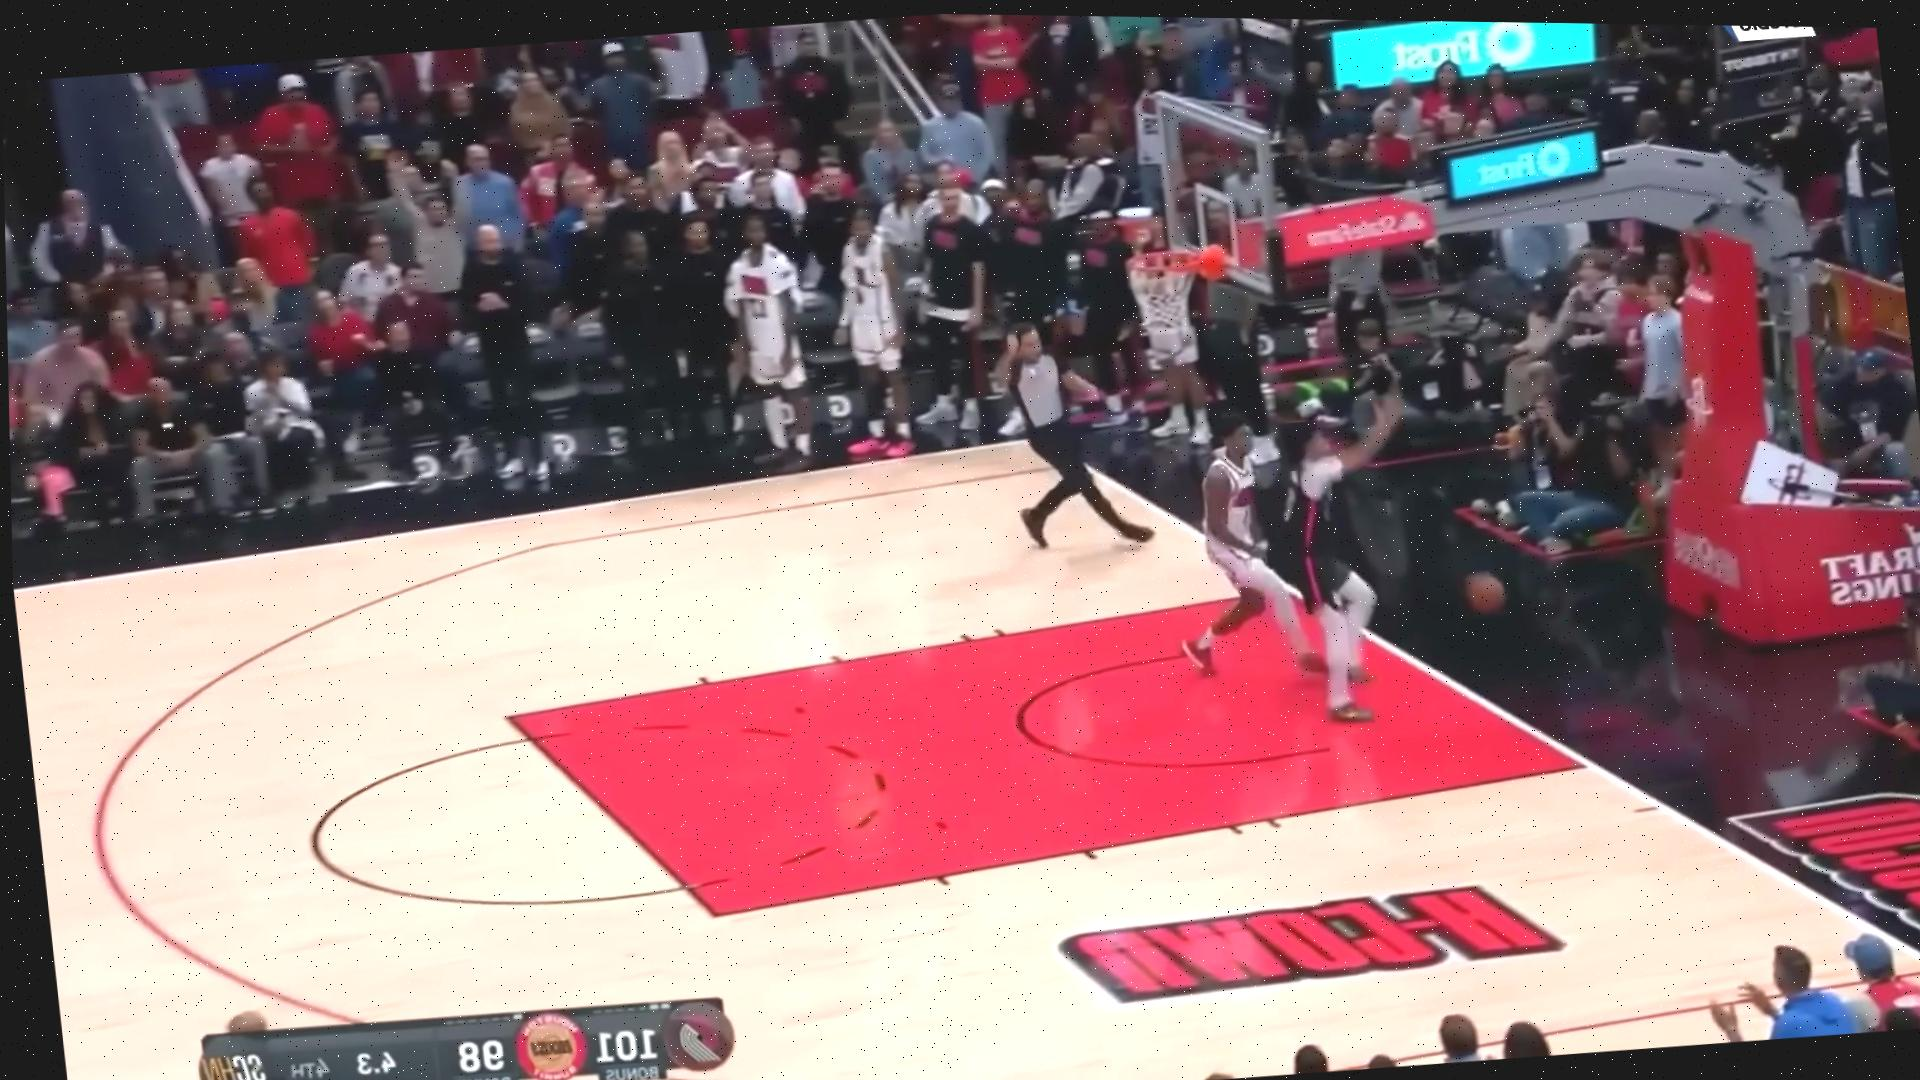foul: (1130, 385, 1425, 721)
